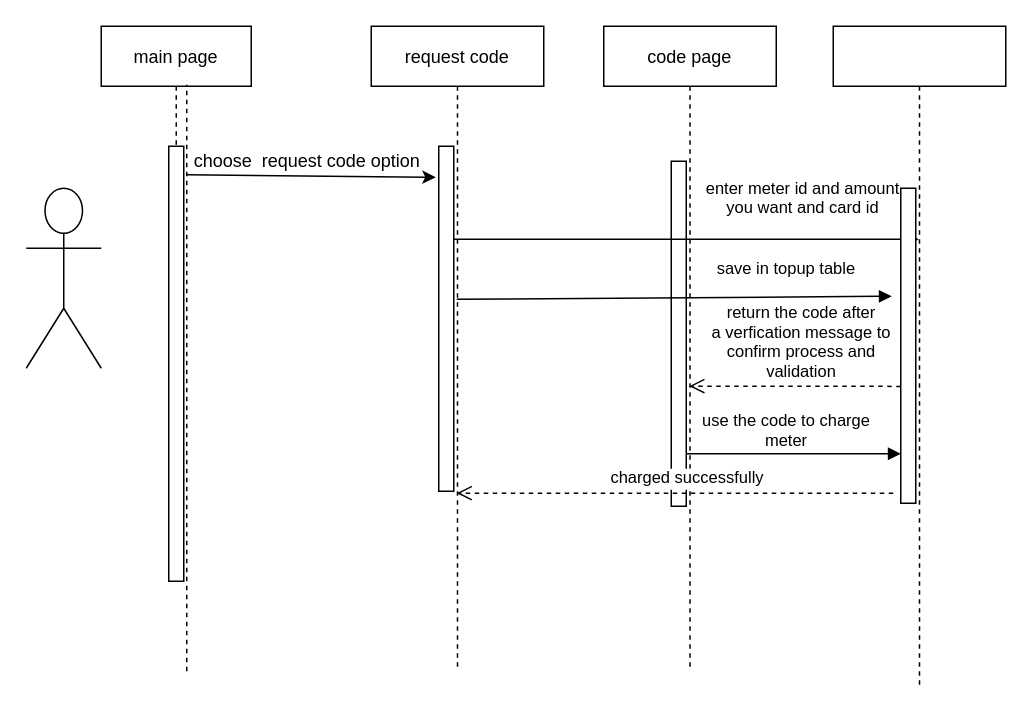
This 1032x713 diagram has some shape labels left out. The shapes that lost their labels are listed below. From the top down, each one's box as (x1, y1, x2, y2) in pixels, then its label:
(25, 187, 101, 368): user
(832, 25, 1006, 686): database
